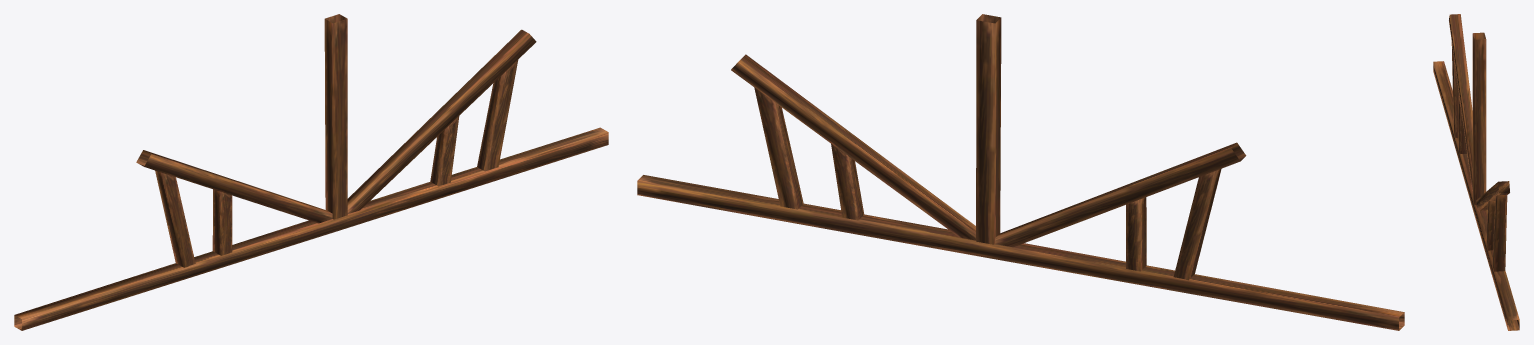
File: SWORDLIGHT20_JAILCEILBRACKET14.fbx
3 views of the same model, side by side, from view 1: azimuth 30°, elevation 25°; view 2: azimuth 150°, elevation 25°; view 3: azimuth 270°, elevation 25° (orthographic). The views are drawn at different scales.
Visible parts, largest first — view 1: SWORDLIGHT20_JAILCEILBRACKET14; view 2: SWORDLIGHT20_JAILCEILBRACKET14; view 3: SWORDLIGHT20_JAILCEILBRACKET14.
Boxes of the visible parts, x1=… form: SWORDLIGHT20_JAILCEILBRACKET14: x1=14, y1=14, x2=608, y2=330; SWORDLIGHT20_JAILCEILBRACKET14: x1=637, y1=14, x2=1404, y2=330; SWORDLIGHT20_JAILCEILBRACKET14: x1=1433, y1=14, x2=1519, y2=330.
Bounding box in the file's own units: 157094 × 49666 × 22110.
1 material, 1 textured.
